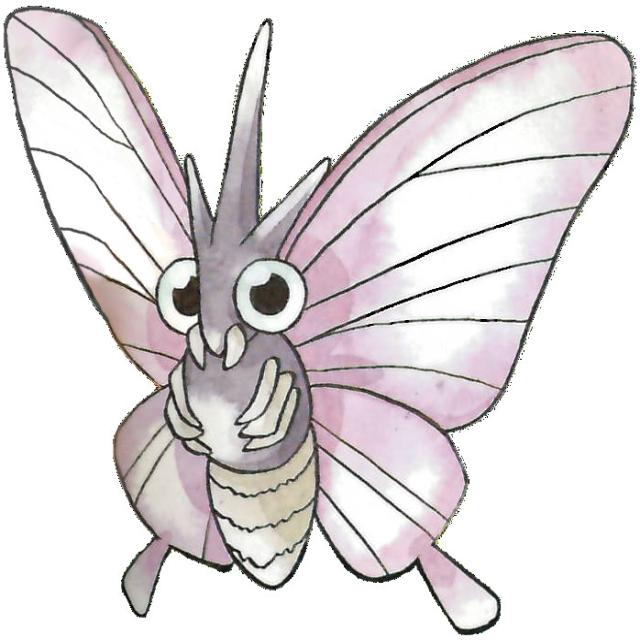Venomoth: (86, 23, 507, 624)
